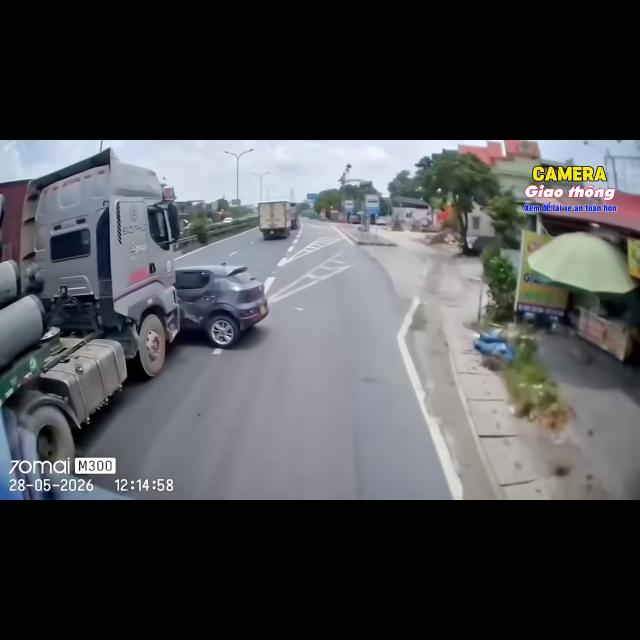car: (175, 263, 268, 348), (376, 217, 386, 225), (350, 215, 360, 223), (222, 217, 234, 223)
truck: (0, 148, 179, 463), (258, 201, 291, 239), (291, 203, 299, 229)
